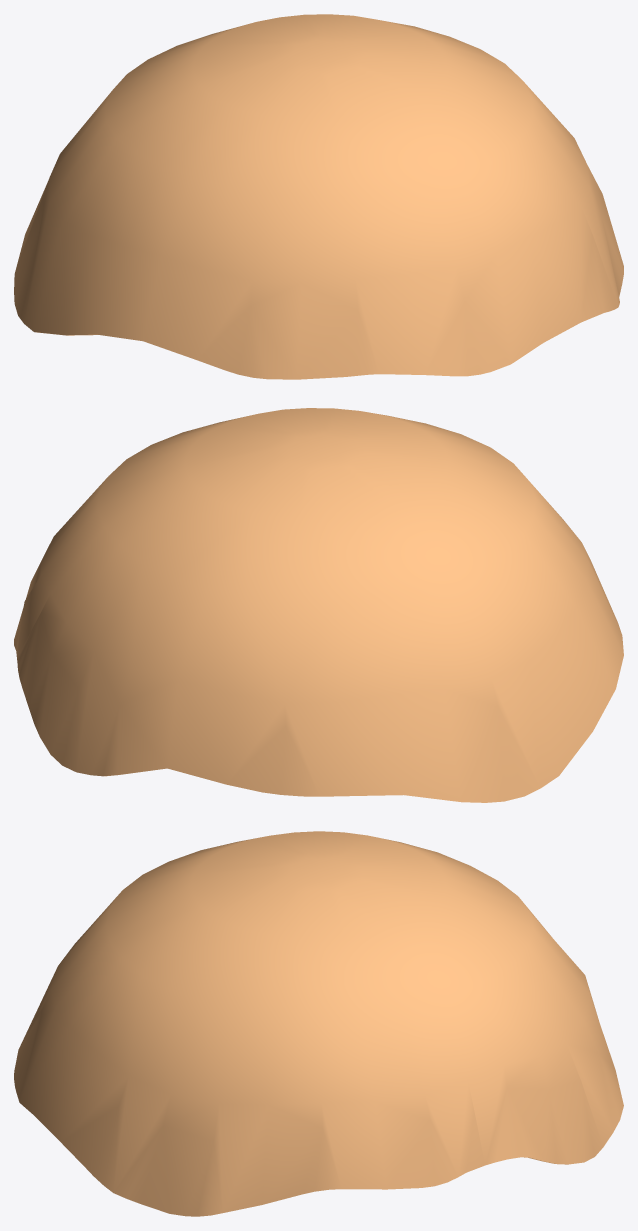
File: Ice Cream Chocolate Beige.fbx
The picture shows the model from 3 angles, top to bottom: view 1: azimuth 30°, elevation 25°; view 2: azimuth 150°, elevation 25°; view 3: azimuth 270°, elevation 25°; orthographic projection. The views are drawn at different scales.
Visible parts, largest first — view 1: Ice Cream Chocolate Beige; view 2: Ice Cream Chocolate Beige; view 3: Ice Cream Chocolate Beige.
Part boxes in pixels (left/top/right/bottom): Ice Cream Chocolate Beige: left=14, top=14, right=623, bottom=379; Ice Cream Chocolate Beige: left=14, top=408, right=623, bottom=802; Ice Cream Chocolate Beige: left=14, top=831, right=623, bottom=1216.
Size of the model in its own units: 0.4558 by 0.2021 by 0.4643.
